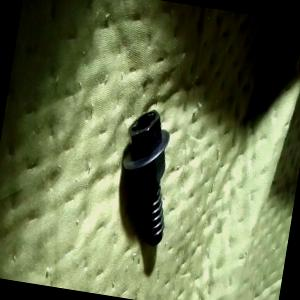parafuso: (109, 105, 182, 248)
